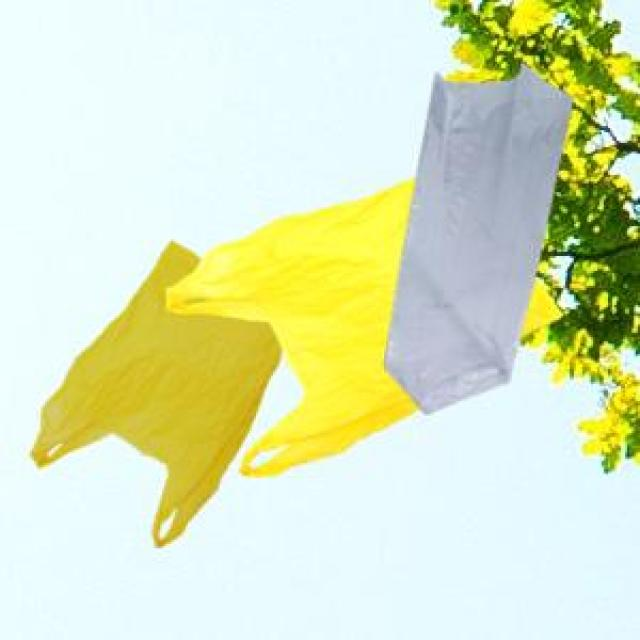plastic: (28, 56, 569, 555)
